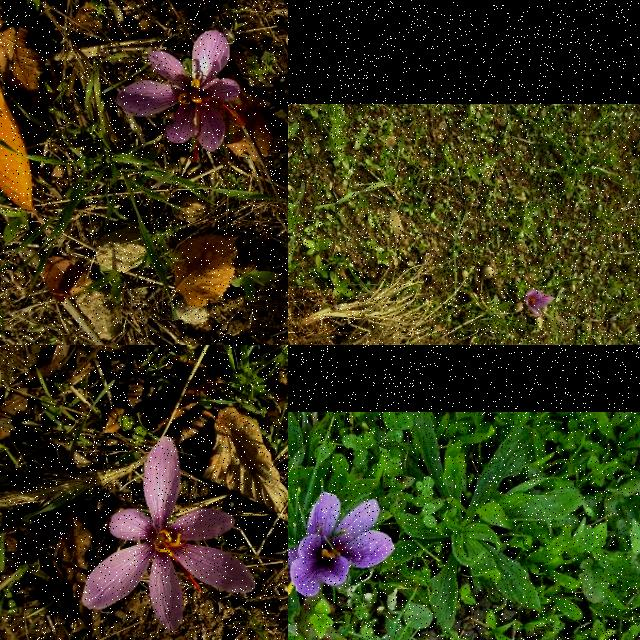flower: (83, 436, 257, 632), (116, 30, 244, 162), (288, 491, 395, 597), (522, 288, 556, 318)
